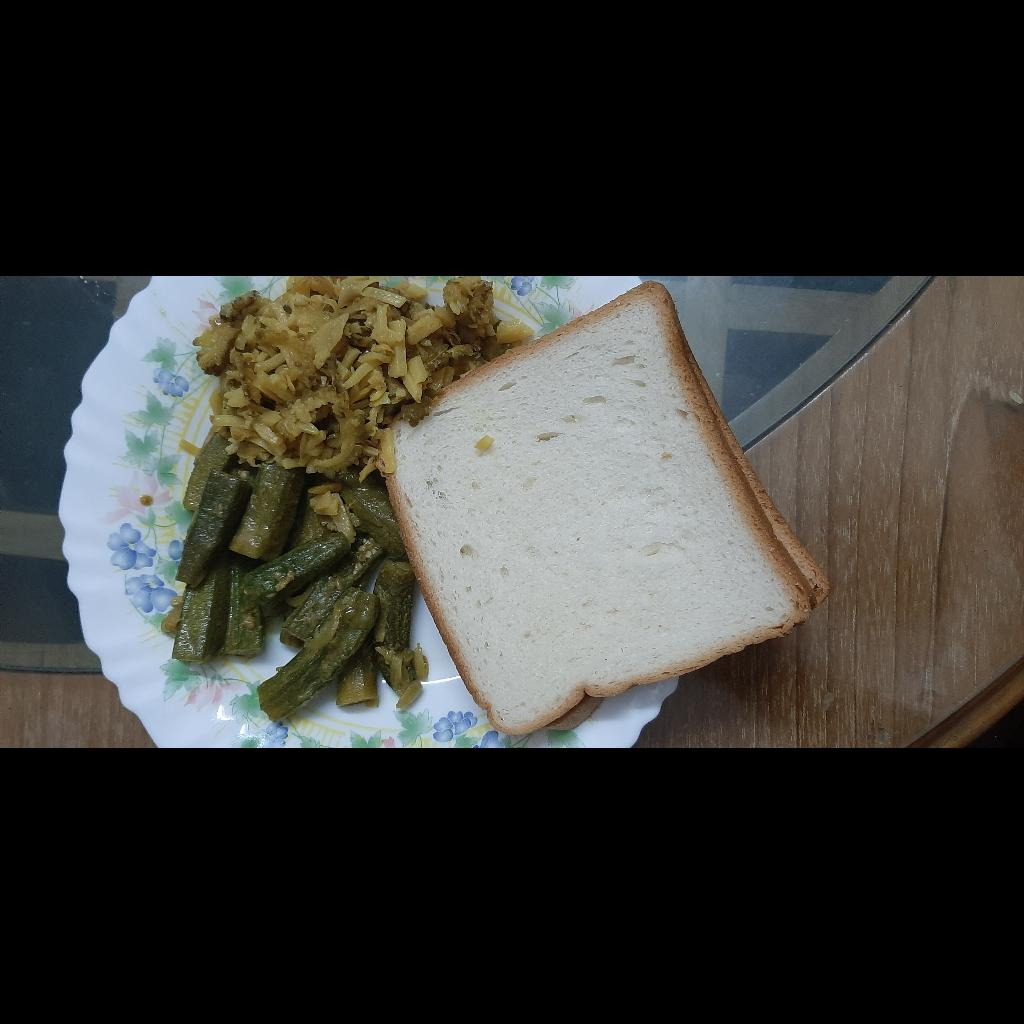bread: (13, 653, 469, 1024)
korola-vaji: (209, 483, 472, 811), (380, 467, 456, 529)
okra: (16, 432, 307, 703)
